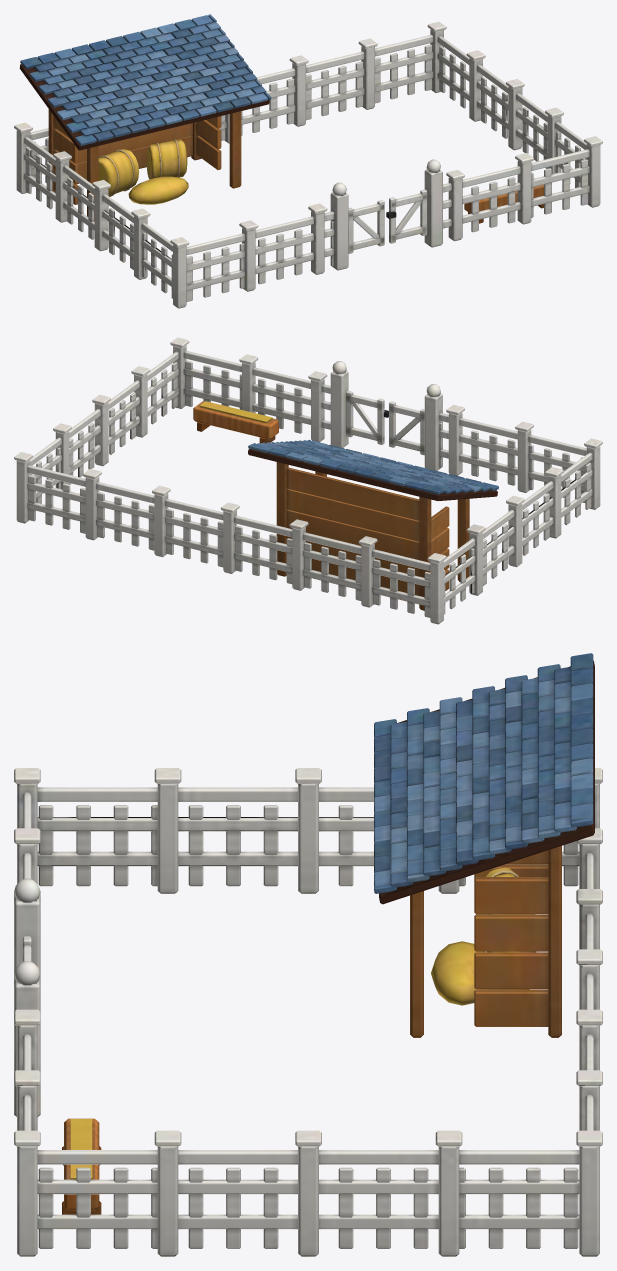
File: merino_fold.glb
3 views of the same model, one above another, from view 1: azimuth 30°, elevation 25°; view 2: azimuth 150°, elevation 25°; view 3: azimuth 270°, elevation 25° (orthographic). The views are drawn at different scales.
Visible parts, largest first — view 1: merino_fold, gate1, gate0; view 2: merino_fold, gate1, gate0; view 3: merino_fold.
Boxes of the visible parts, x1,y1,x2,y2 form: merino_fold: (14,14,602,308); gate1: (386,189,427,243); gate0: (348,200,384,253); merino_fold: (14,337,602,624); gate1: (346,390,388,444); gate0: (389,401,424,455); merino_fold: (14,653,602,1256).
Bounding box in the file's own units: 2.99 × 0.9342 × 1.99.
1 material, 1 textured.
